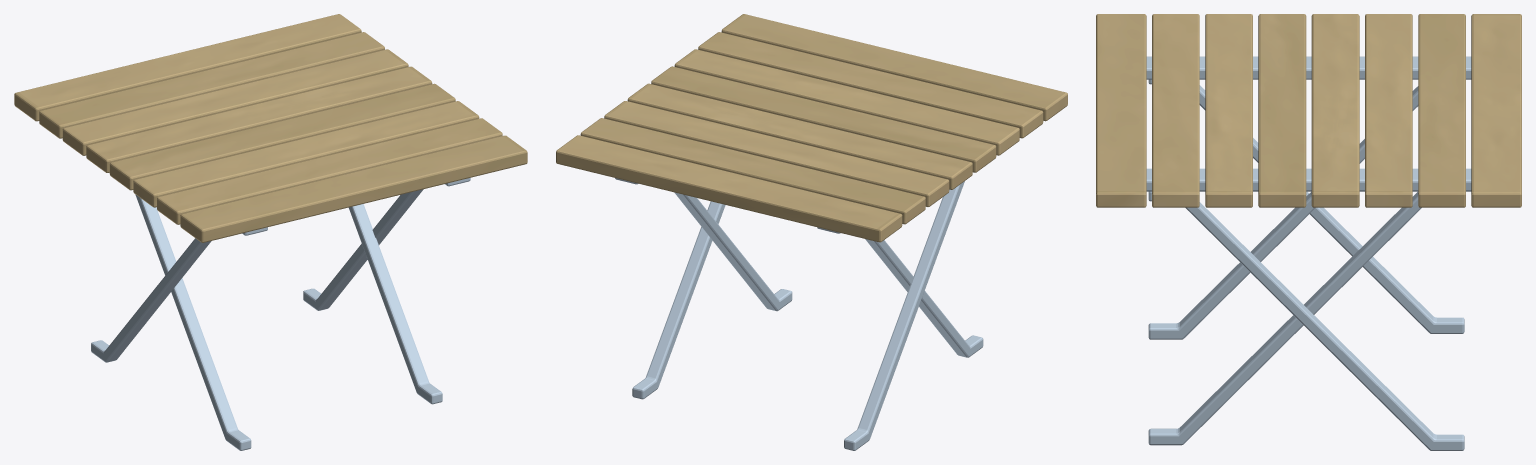
The model's file is Table.glb.
The picture shows the model from 3 angles, left to right: view 1: azimuth 30°, elevation 25°; view 2: azimuth 150°, elevation 25°; view 3: azimuth 270°, elevation 25°; orthographic projection. The views are drawn at different scales.
Parts seen in each view (by area): view 1: Table; view 2: Table; view 3: Table.
Part boxes in pixels (x1,y1,x2,y2): Table: (14, 14, 527, 450); Table: (556, 14, 1067, 450); Table: (1096, 14, 1521, 450).
Bounding box in the file's own units: 1 × 0.7432 × 1.
Materials: 2 (1 with a texture image).
